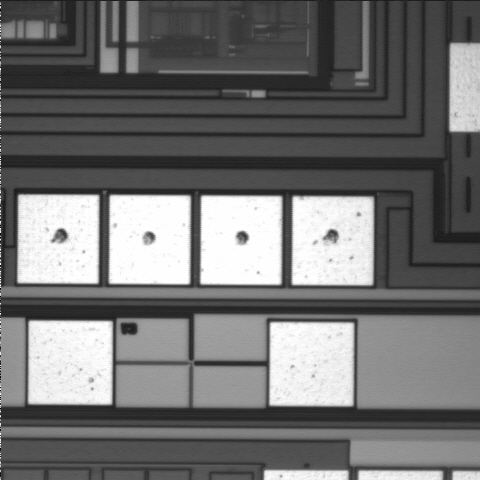pad: (109, 195, 191, 284), (200, 196, 282, 285), (292, 196, 374, 285), (18, 195, 99, 284), (28, 321, 113, 405), (269, 322, 354, 406)
